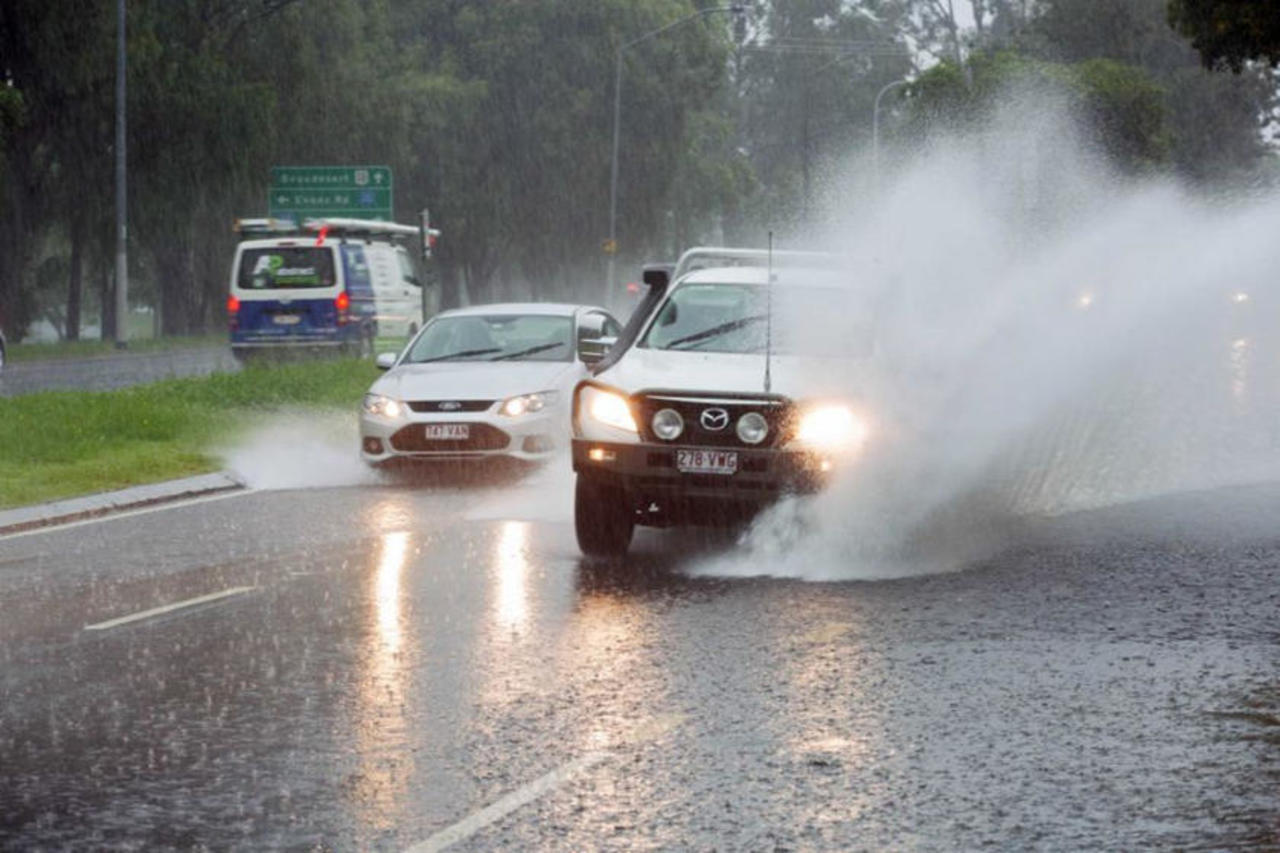car: (564, 246, 882, 562), (351, 304, 602, 486), (228, 218, 425, 361)
